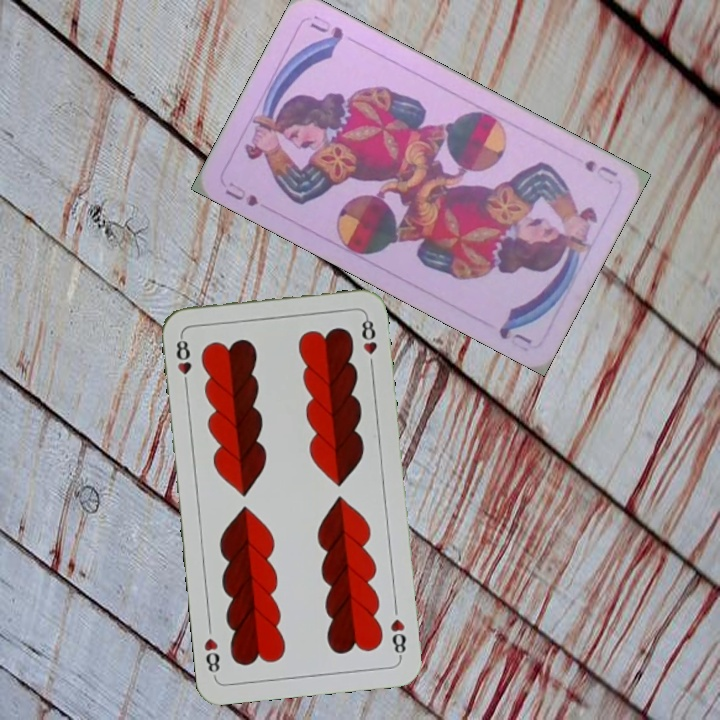H8: (172, 332, 194, 391), (386, 614, 409, 661)
SU: (580, 155, 621, 187), (221, 177, 261, 209)
